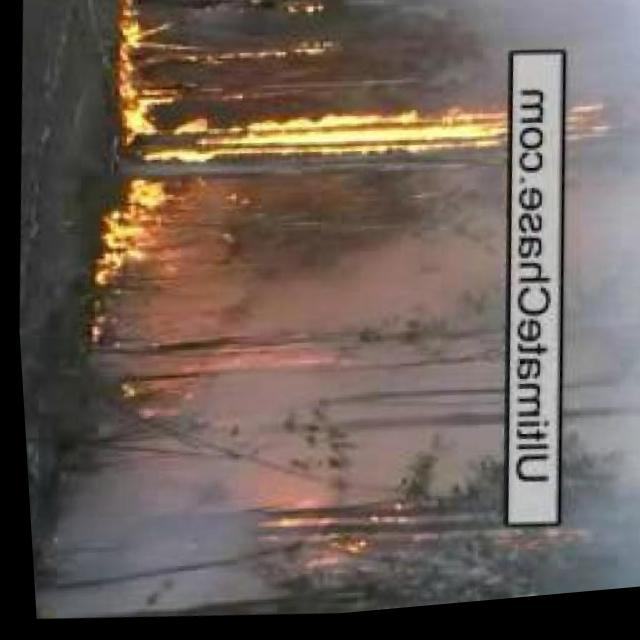Fire: (97, 70, 599, 184), (106, 0, 325, 74), (80, 181, 172, 286), (253, 497, 376, 574)
